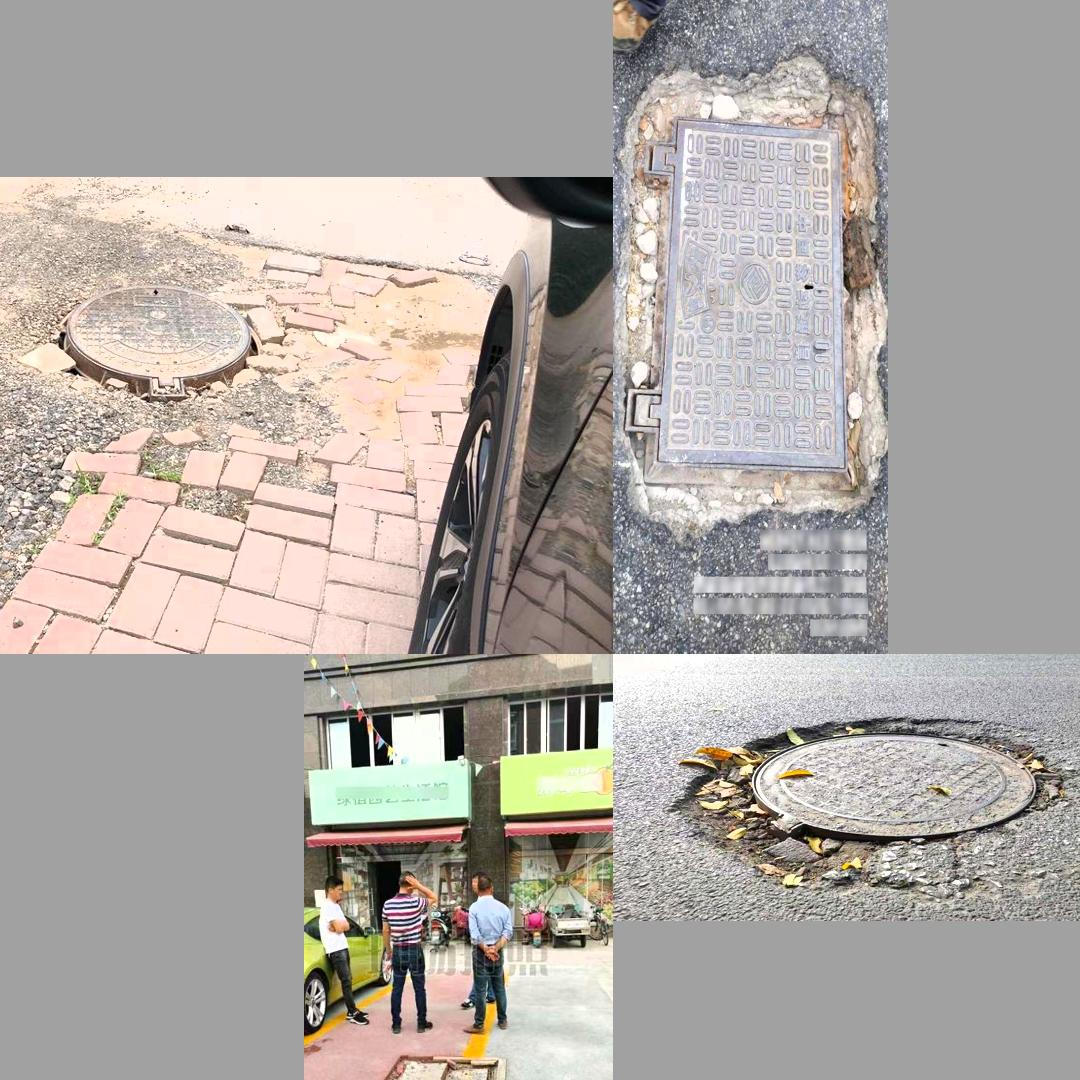circle: (621, 87, 873, 513), (680, 716, 1080, 891), (0, 251, 328, 441), (369, 1056, 506, 1080)
